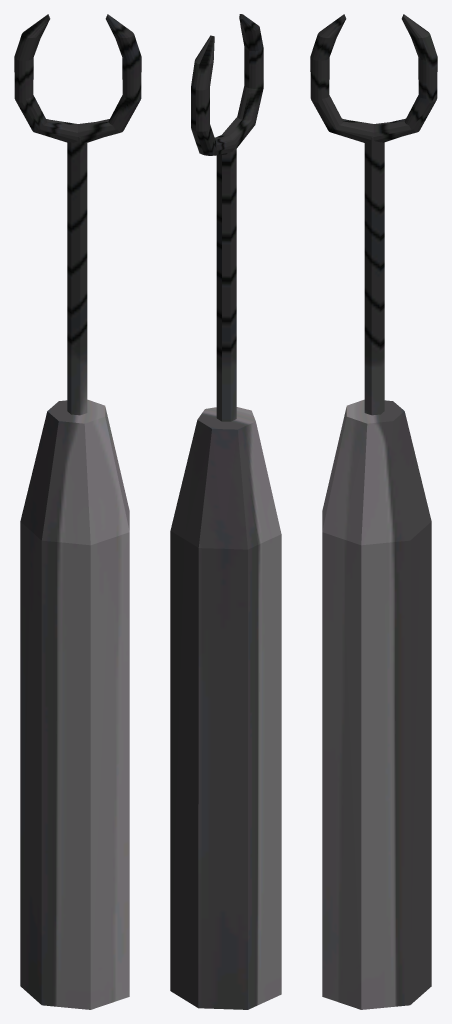
The model's file is Prod.glb.
3 views of the same model, side by side, from view 1: azimuth 90°, elevation 25°; view 2: azimuth 150°, elevation 25°; view 3: azimuth 270°, elevation 25° (orthographic).
Visible parts, largest first — view 1: Prod; view 2: Prod; view 3: Prod.
Part boxes in pixels (box(x1,y1,x2,y2)): Prod: box(14, 14, 141, 1009); Prod: box(170, 14, 281, 1009); Prod: box(310, 14, 437, 1009).
Bounding box in the file's own units: 9.48 × 90.57 × 10.76.
Materials: 1 (1 with a texture image).
